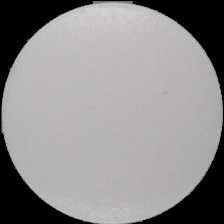0615-0518: (0, 0, 224, 224)
